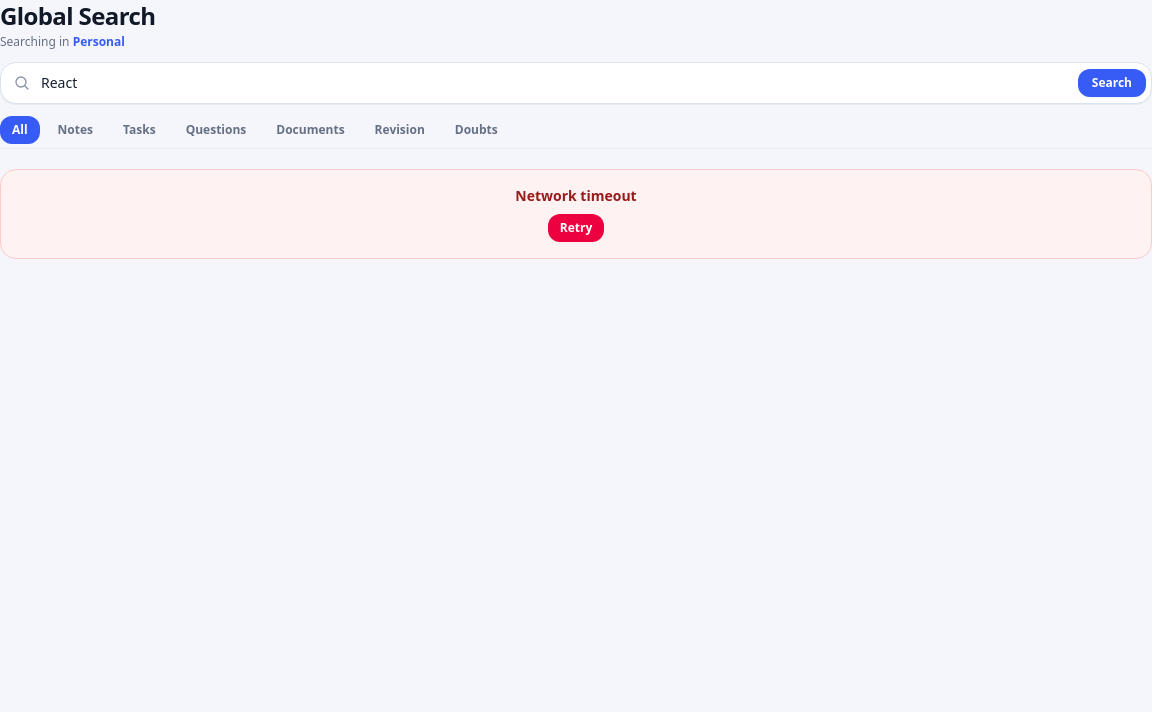
Scenario: Global Search Feature Frontend Test Suite › 2. Search Page States › displays error state with working Retry button when API fails
This screenshot has width=1152, height=712.
Expected: the text "Network timeout" is shown, x1=515 y1=186 x2=637 y2=205
Click the button "Retry" at (576, 228), box x1=548 y1=214 x2=604 y2=242
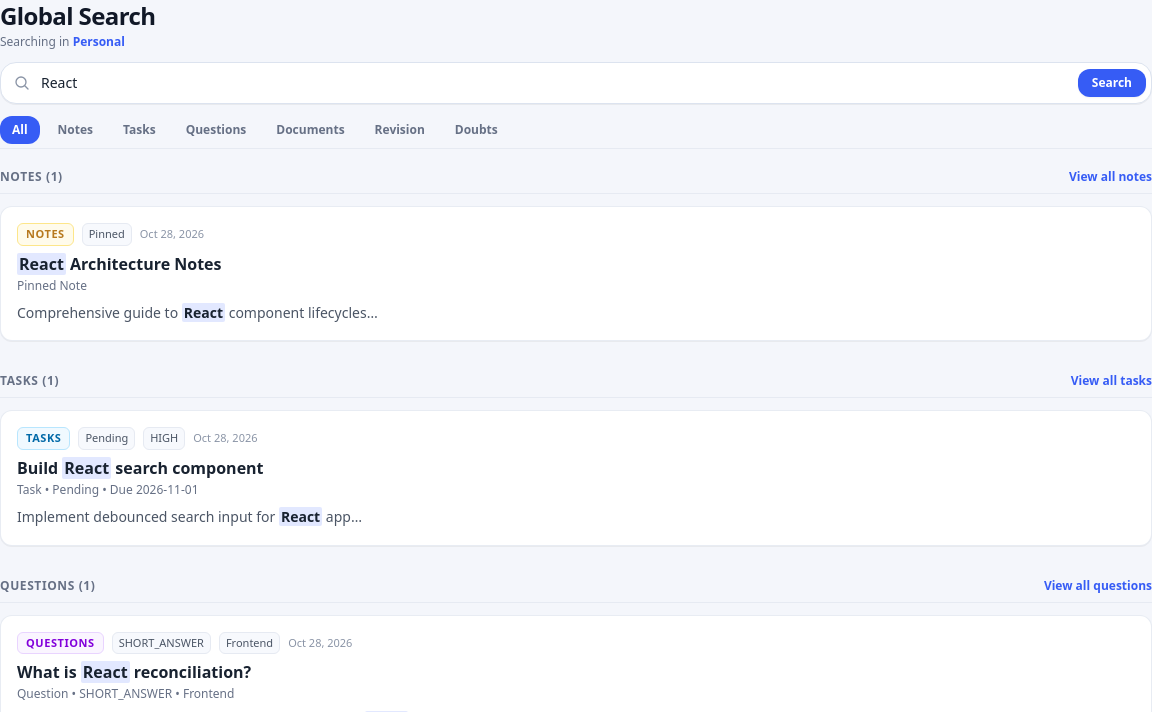
Result: the heading "React Architecture Notes" is shown at x1=17 y1=252 x2=222 y2=274
